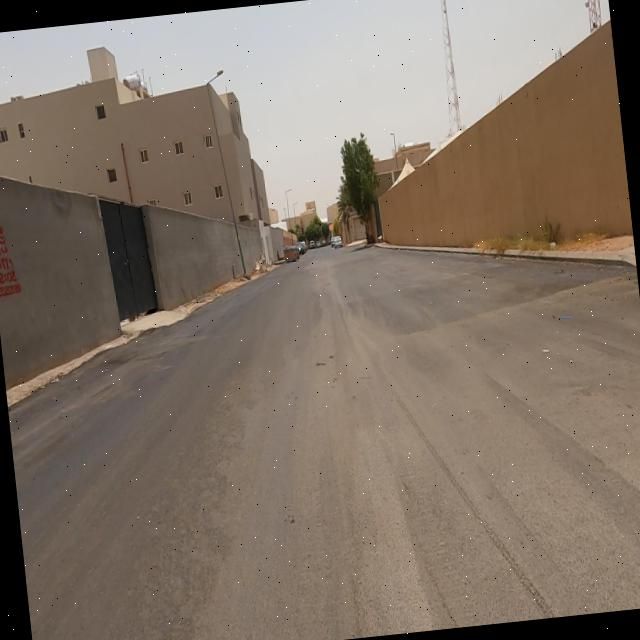Graffiti: (1, 216, 23, 299)
